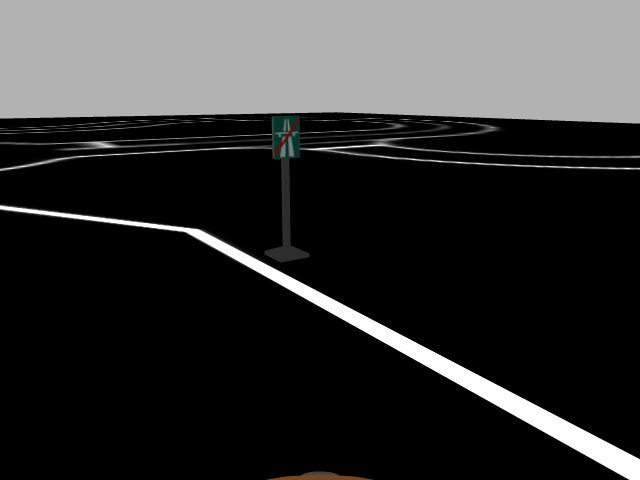leave_highway: (269, 115, 302, 160)
